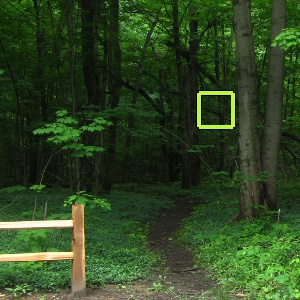square: (193, 87, 239, 133)
